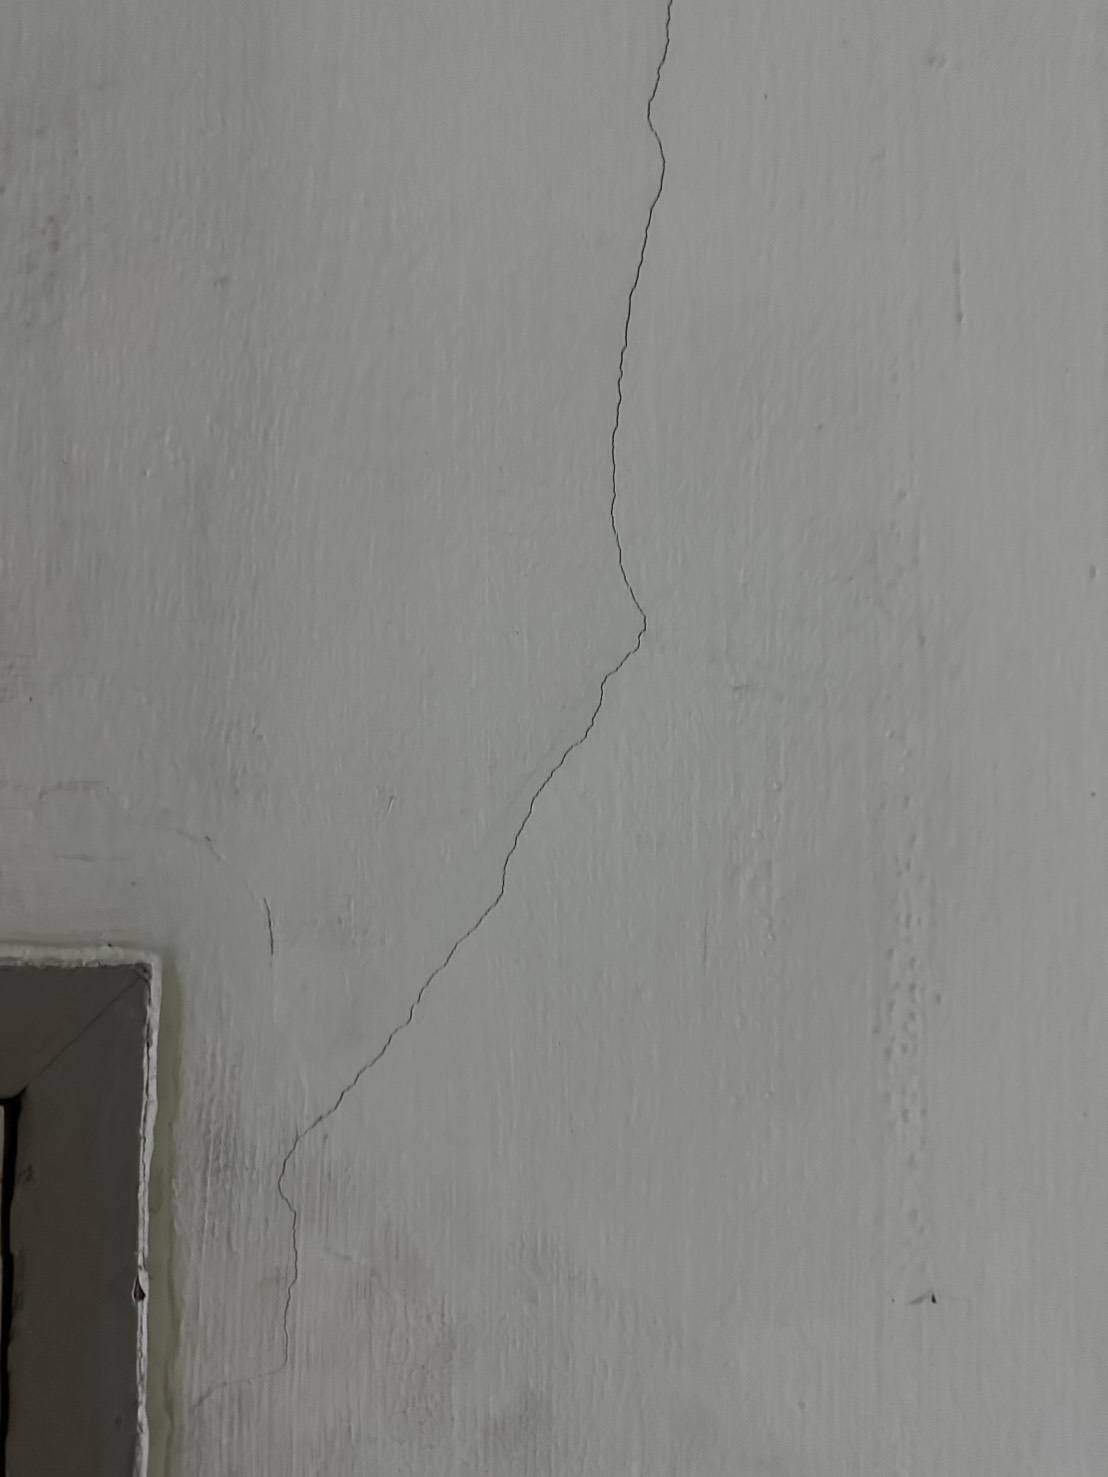Low: (236, 1, 772, 1383)
